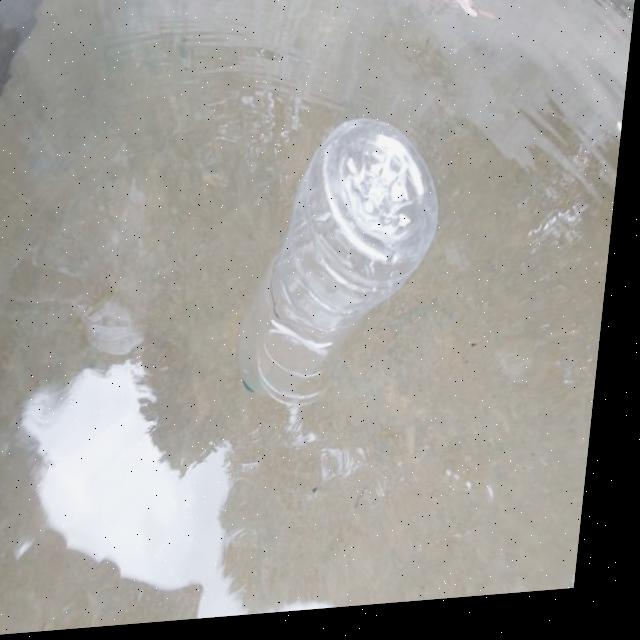waterbottle: (224, 117, 464, 418)
